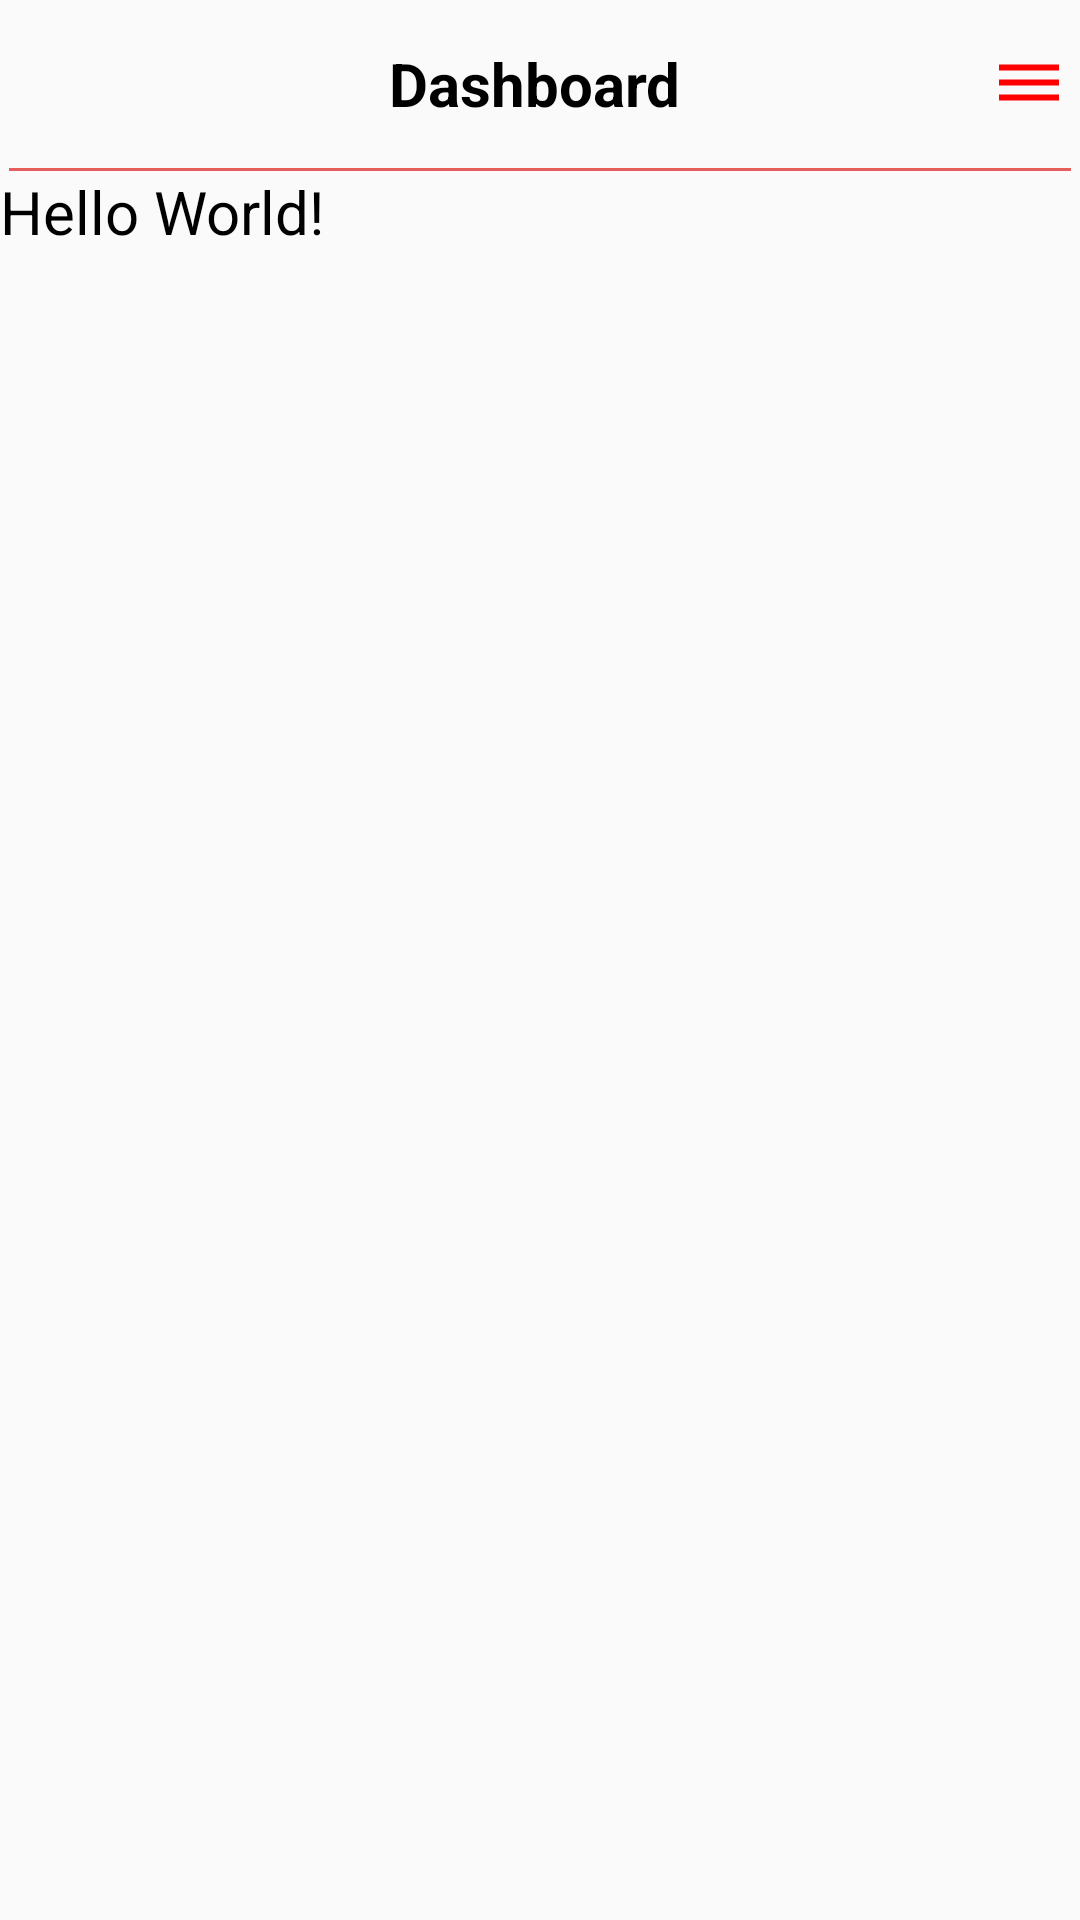

Where icons sit on this 1080px×1920px app screen, as BBox(x1, y1, x2, y2):
drawer open: BBox(999, 64, 1059, 101)
